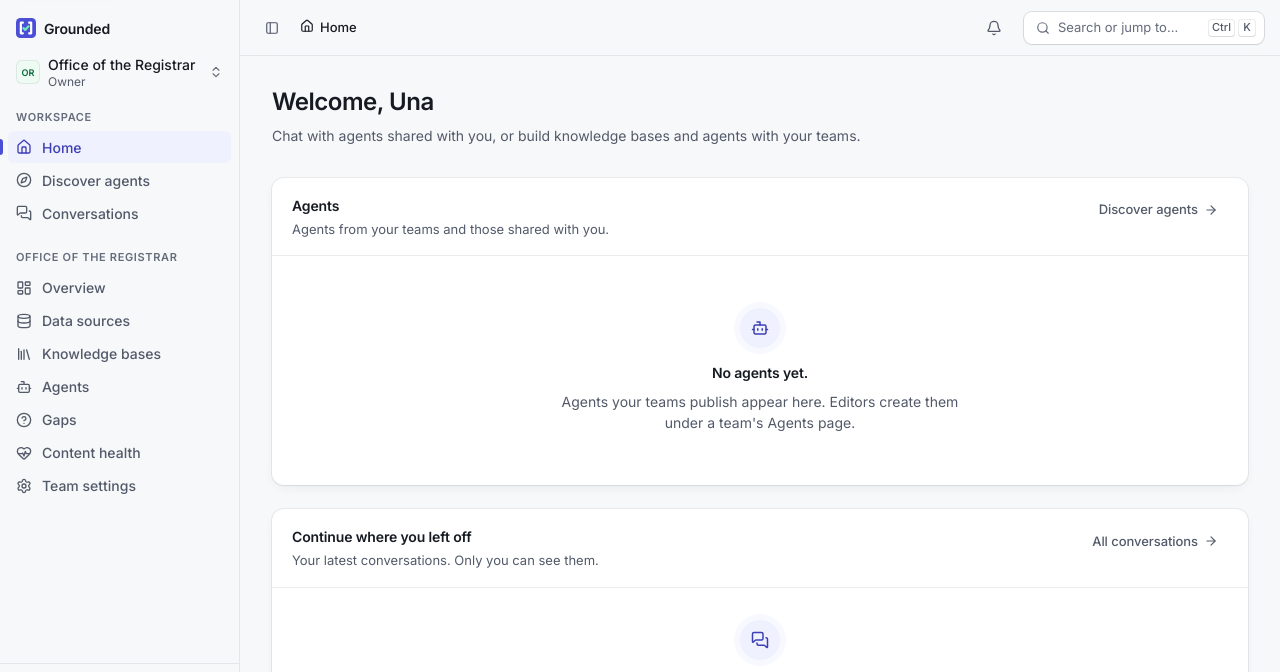
Test: command palette search (E15) › says it is searching, cancels a search that is no longer wanted, and says when nothing was found
The width and height of the screenshot is (1280, 672).
Expected: the heading "Welcome, Una" is shown, [272,88,434,117]
Type keys "{Control>}k{/Control}"
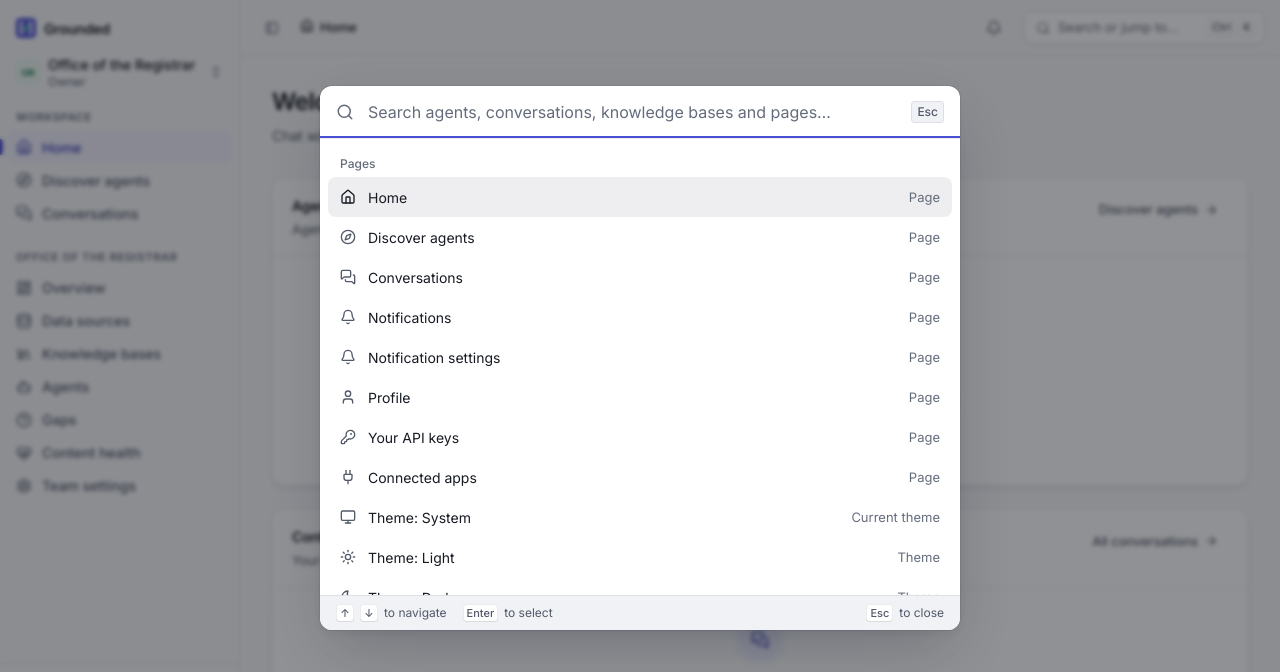
Type "zzq" into the dropdown named "Command palette" at (633, 112), box [366,86,899,138]
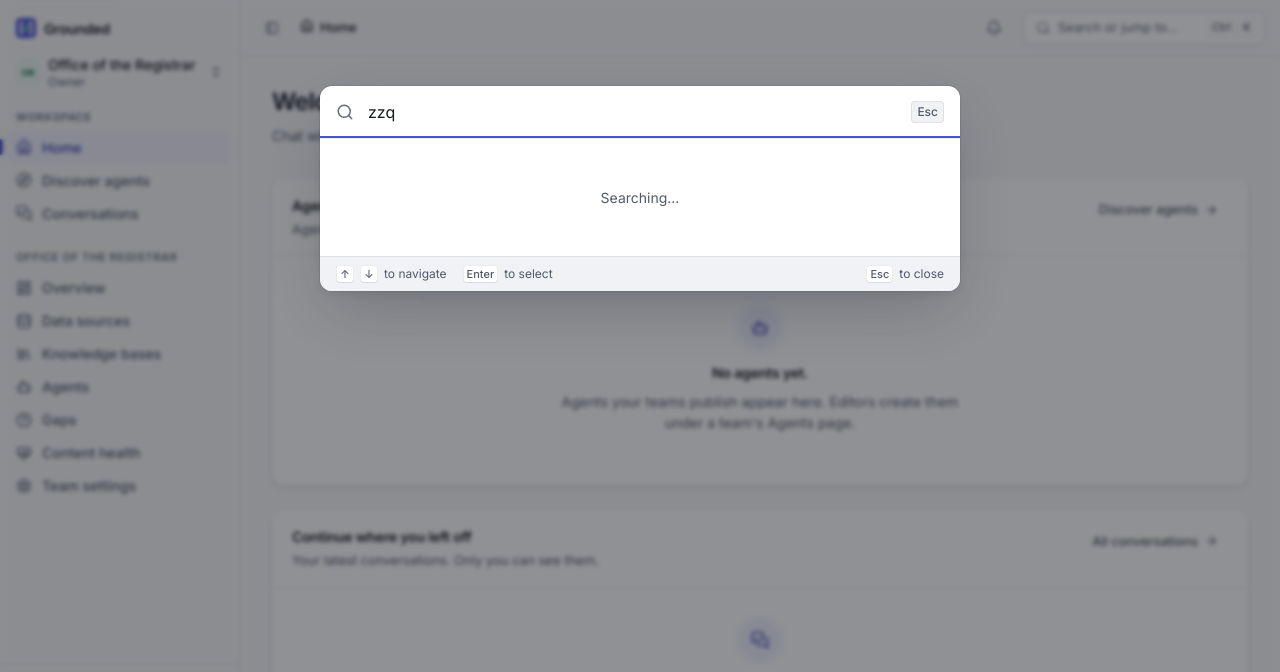
Result: the message reads "Searching…" at [601,189,679,206]
Type "x" into the dropdown named "Command palette" at (633, 112), box [366,86,899,138]
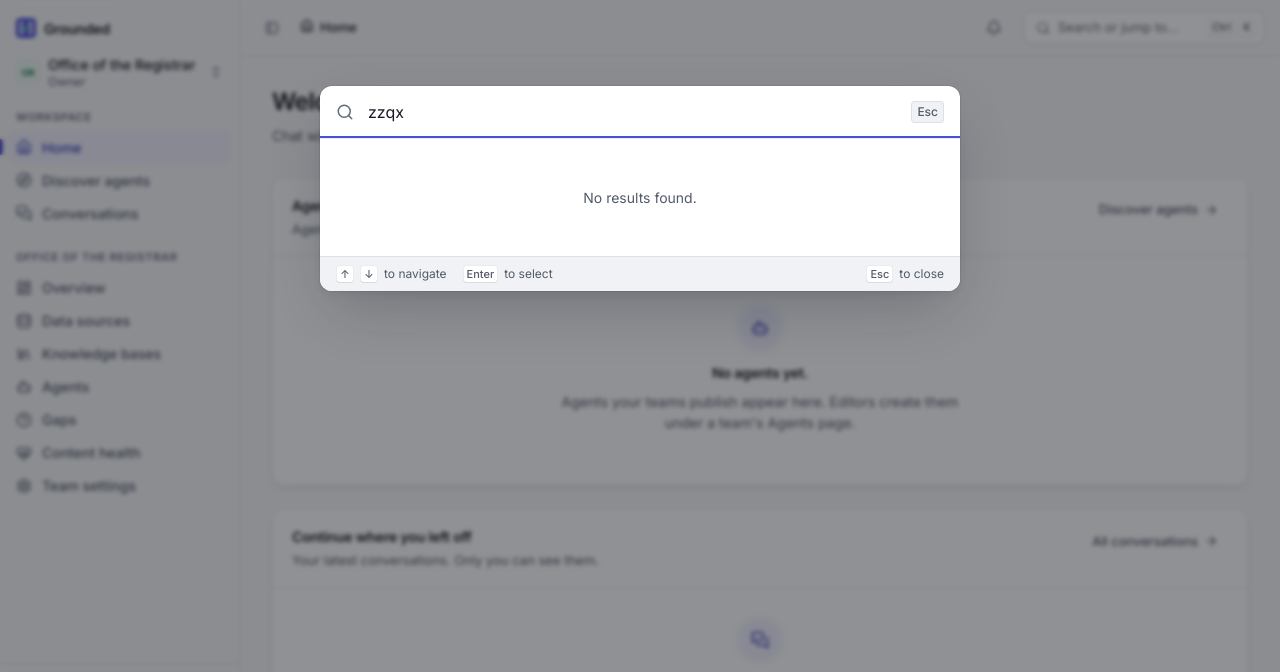
Result: the message reads "No results found." at [583,189,697,206]
